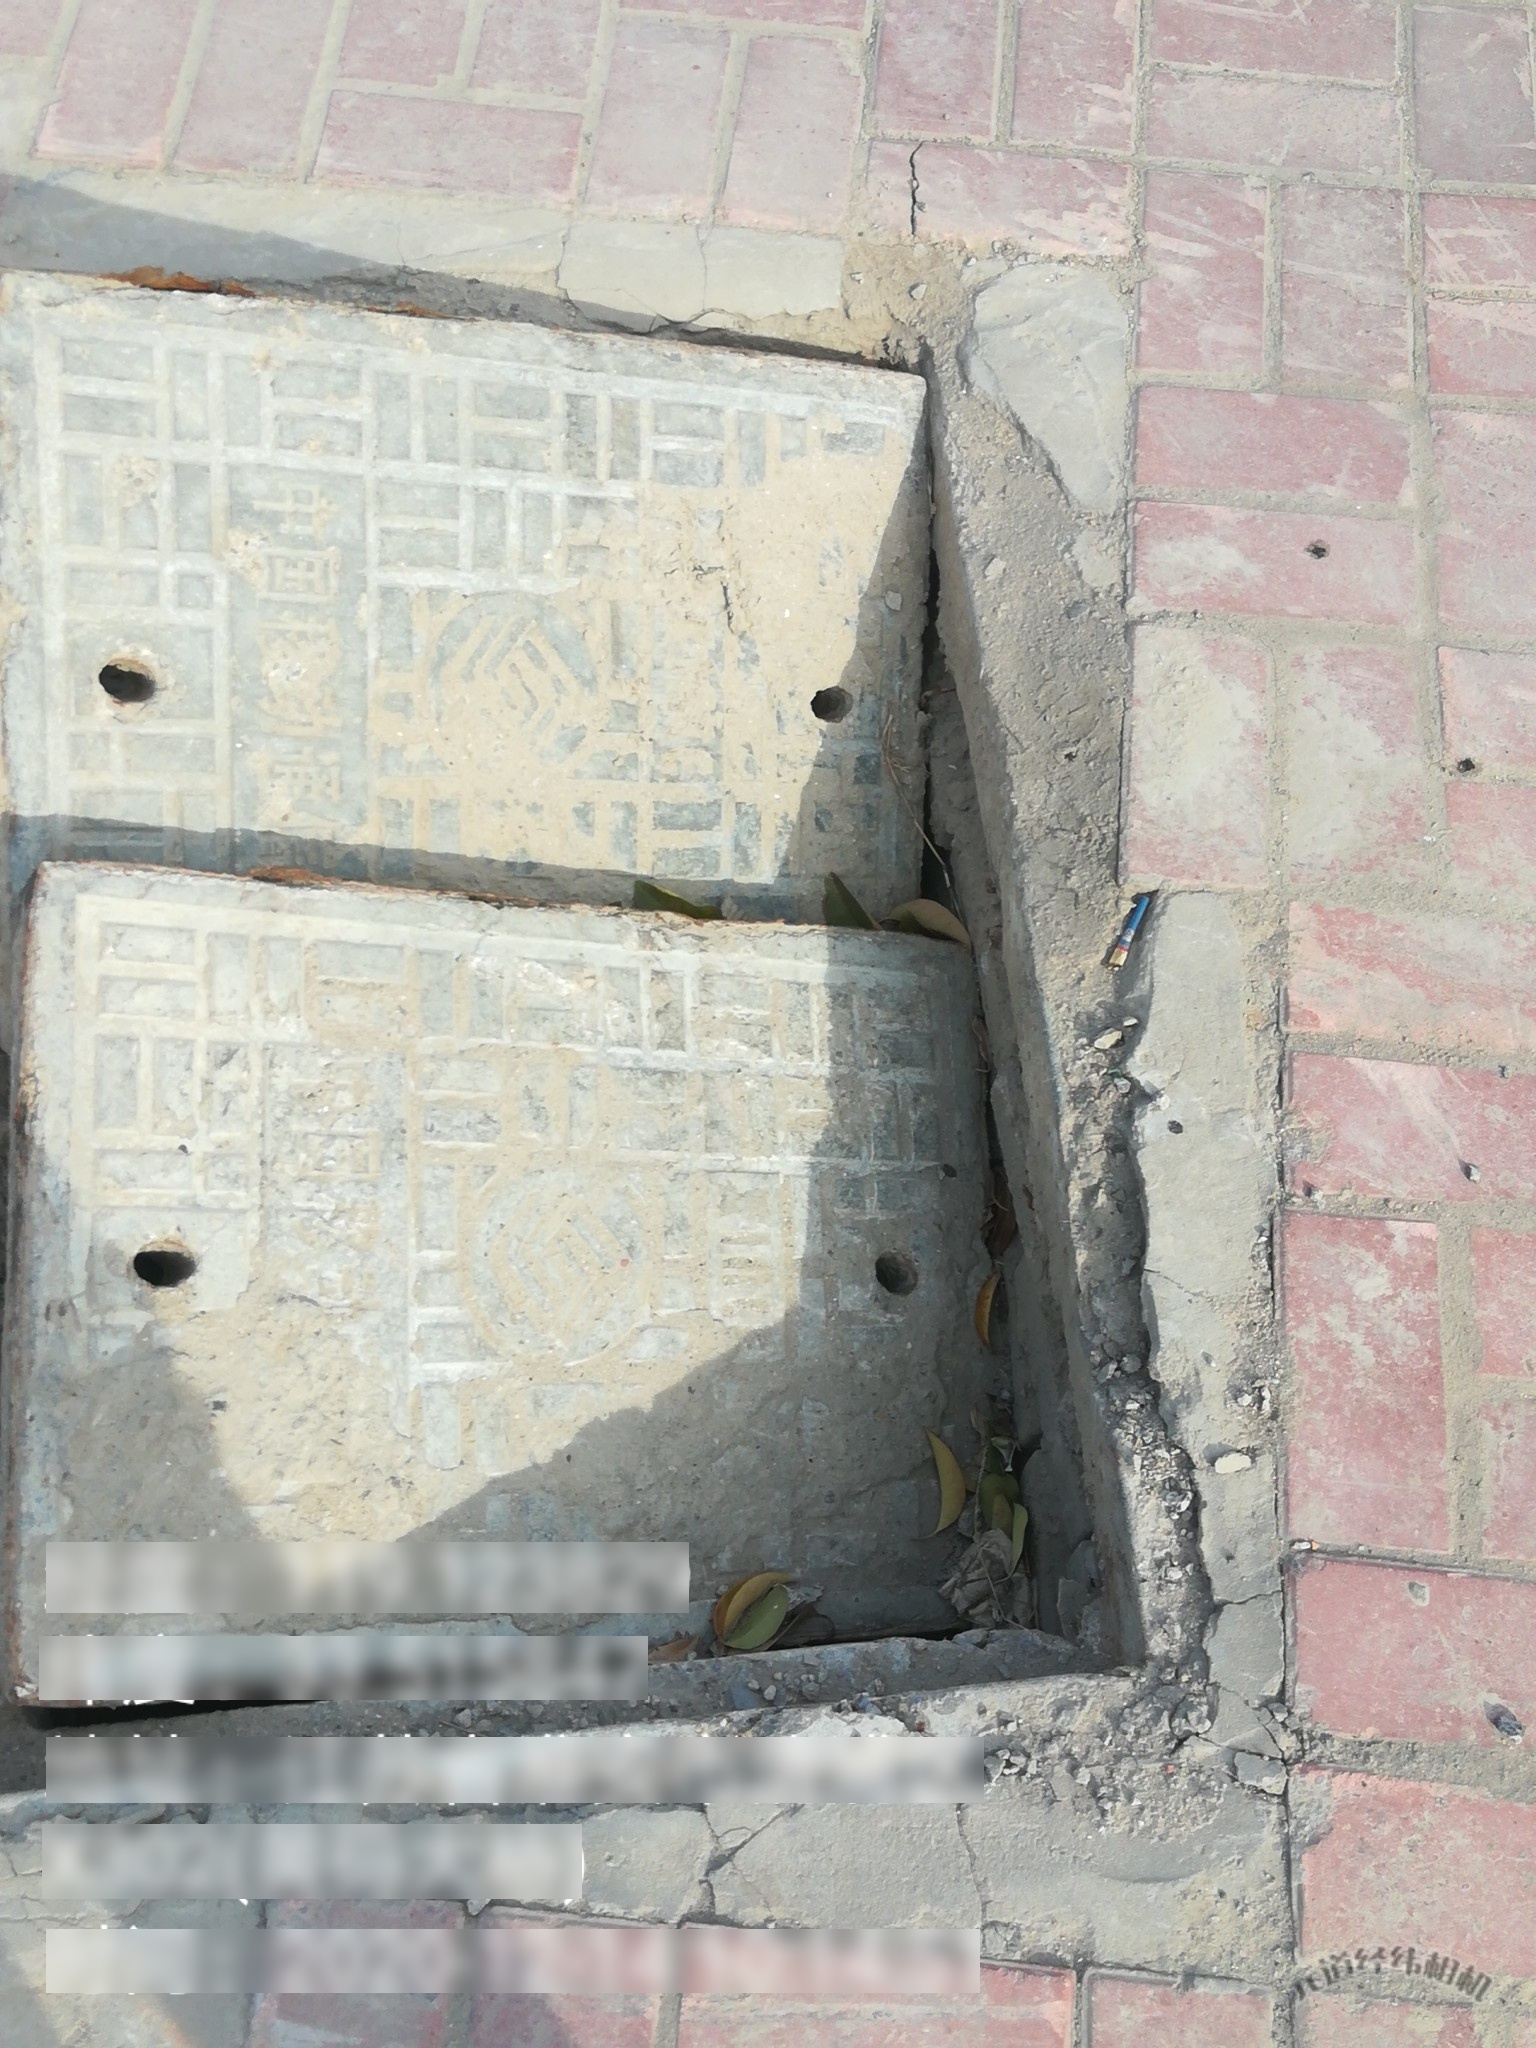uncovered: (18, 218, 1205, 1879)
